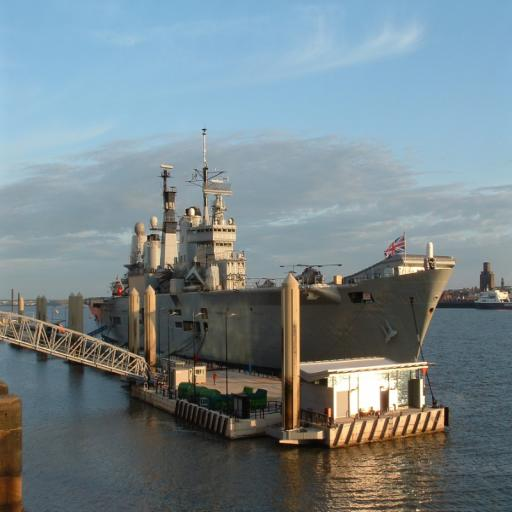Portanaves: (84, 110, 474, 413)
